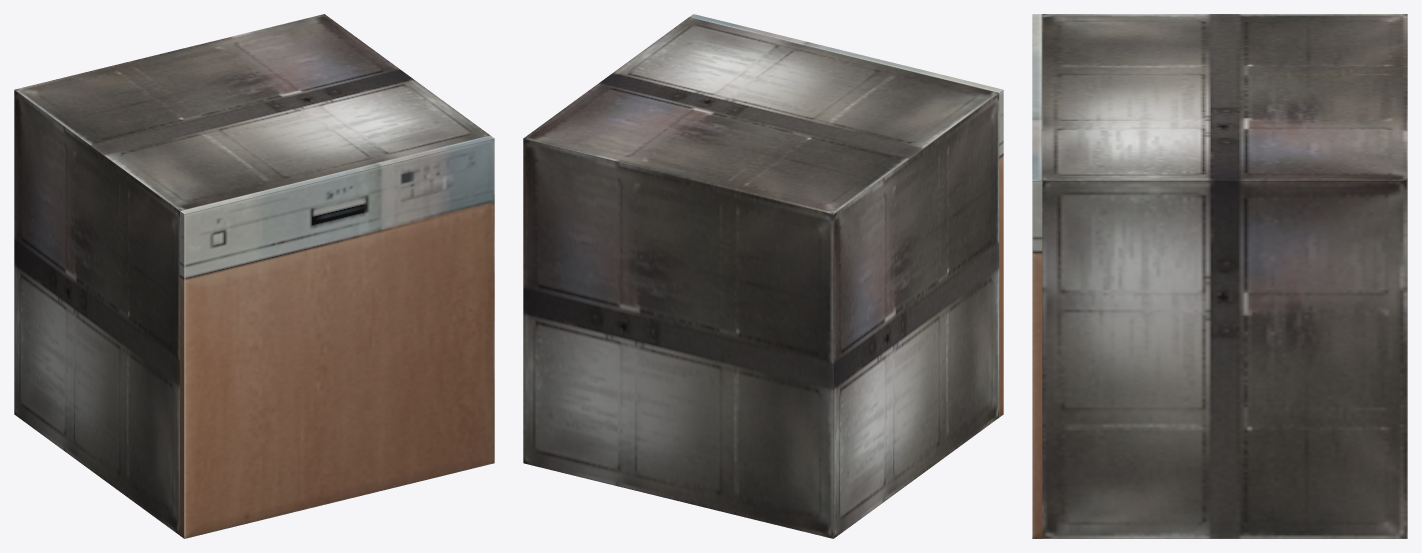
The model's file is Dishwasher01.obj.
The picture shows the model from 3 angles, left to right: view 1: azimuth 30°, elevation 25°; view 2: azimuth 150°, elevation 25°; view 3: azimuth 270°, elevation 25°; orthographic projection. The views are drawn at different scales.
Visible parts, largest first — view 1: Dishwasher01, Dishwasher01.Door; view 2: Dishwasher01, Dishwasher01.Door; view 3: Dishwasher01, Dishwasher01.Door.
Part boxes in pixels (x1,y1,x2,y2): Dishwasher01: (14,14,489,535); Dishwasher01.Door: (180,135,494,538); Dishwasher01: (523,17,999,538); Dishwasher01.Door: (689,14,1003,417); Dishwasher01: (1042,14,1407,538); Dishwasher01.Door: (1032,14,1042,538).
Bounding box in the file's own units: 1.5 × 1.5 × 1.43.
